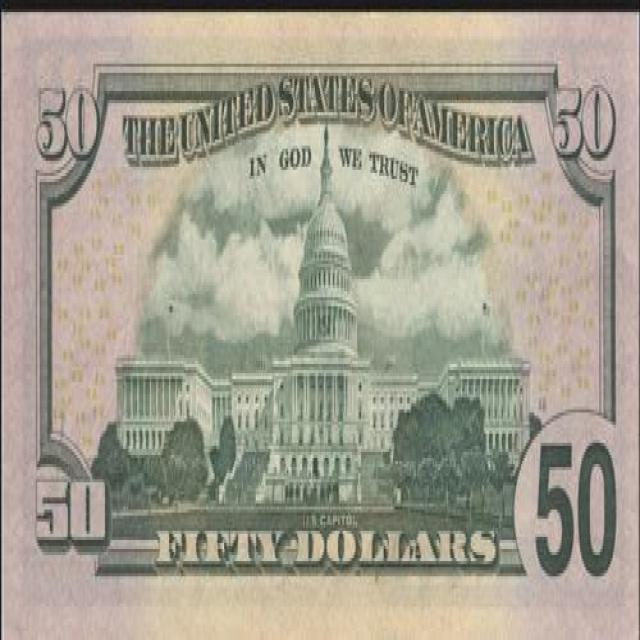50-Back: (0, 18, 640, 625)
